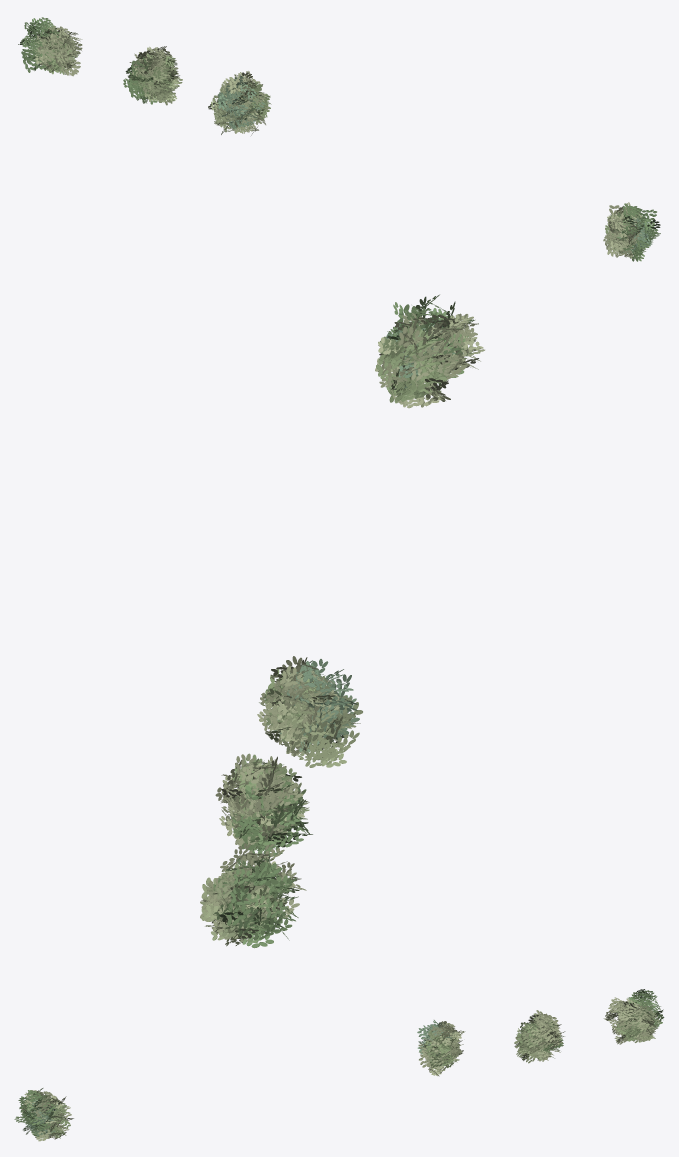
The model's file is campus-tree--6_-6-middle.glb.
3 renders of one model, top to bottom at view 1: azimuth 30°, elevation 25°; view 2: azimuth 150°, elevation 25°; view 3: azimuth 270°, elevation 25°, orthographic. The views are drawn at different scales.
Visible parts, largest first — view 1: Campus leaf canopy; view 2: Campus leaf canopy; view 3: Campus leaf canopy.
Boxes of the visible parts, x1,y1,x2,y2 form: Campus leaf canopy: (18,17,660,261); Campus leaf canopy: (200,294,484,948); Campus leaf canopy: (14,989,664,1141).
Bounding box in the file's own units: 31.54 × 6.82 × 69.02.
Materials: 1 (1 with a texture image).
